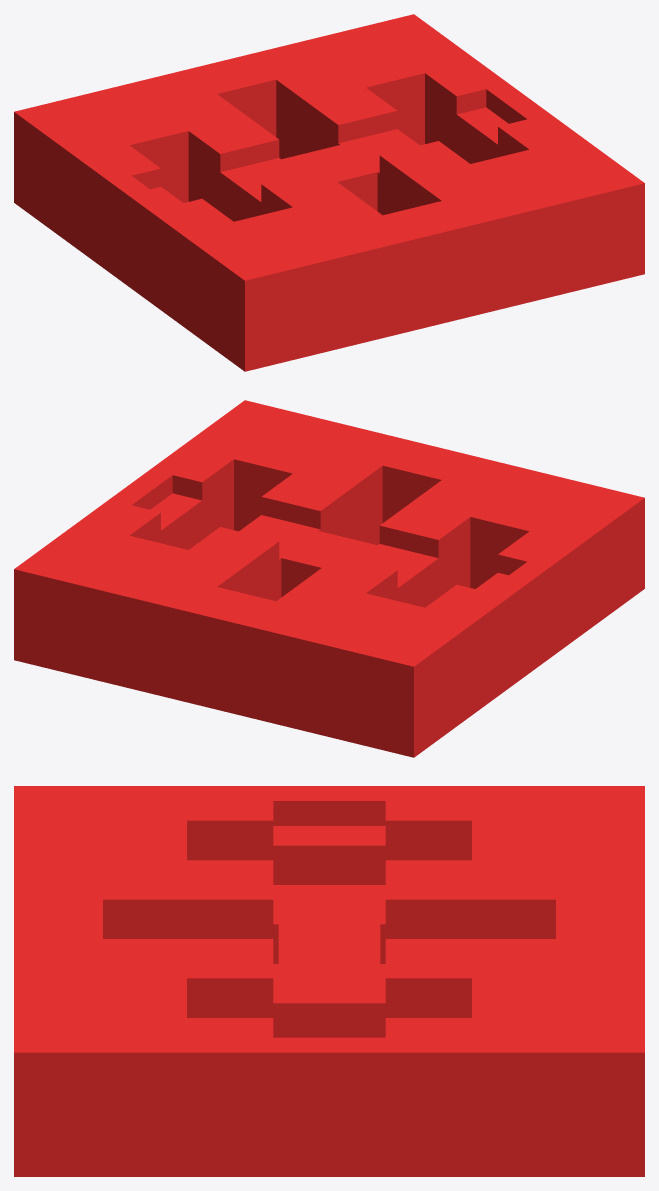
Rendered from board_1.glb.
3 views of the same model, one above another, from view 1: azimuth 30°, elevation 25°; view 2: azimuth 150°, elevation 25°; view 3: azimuth 270°, elevation 25° (orthographic). The views are drawn at different scales.
Visible parts, largest first — view 1: Teaser Board 2.2 v4; view 2: Teaser Board 2.2 v4; view 3: Teaser Board 2.2 v4.
Part boxes in pixels (bbox=[...]): Teaser Board 2.2 v4: bbox=[14, 14, 644, 371]; Teaser Board 2.2 v4: bbox=[14, 400, 644, 757]; Teaser Board 2.2 v4: bbox=[14, 786, 644, 1176].
Size of the model in its own units: 0.23 by 0.05 by 0.23.
